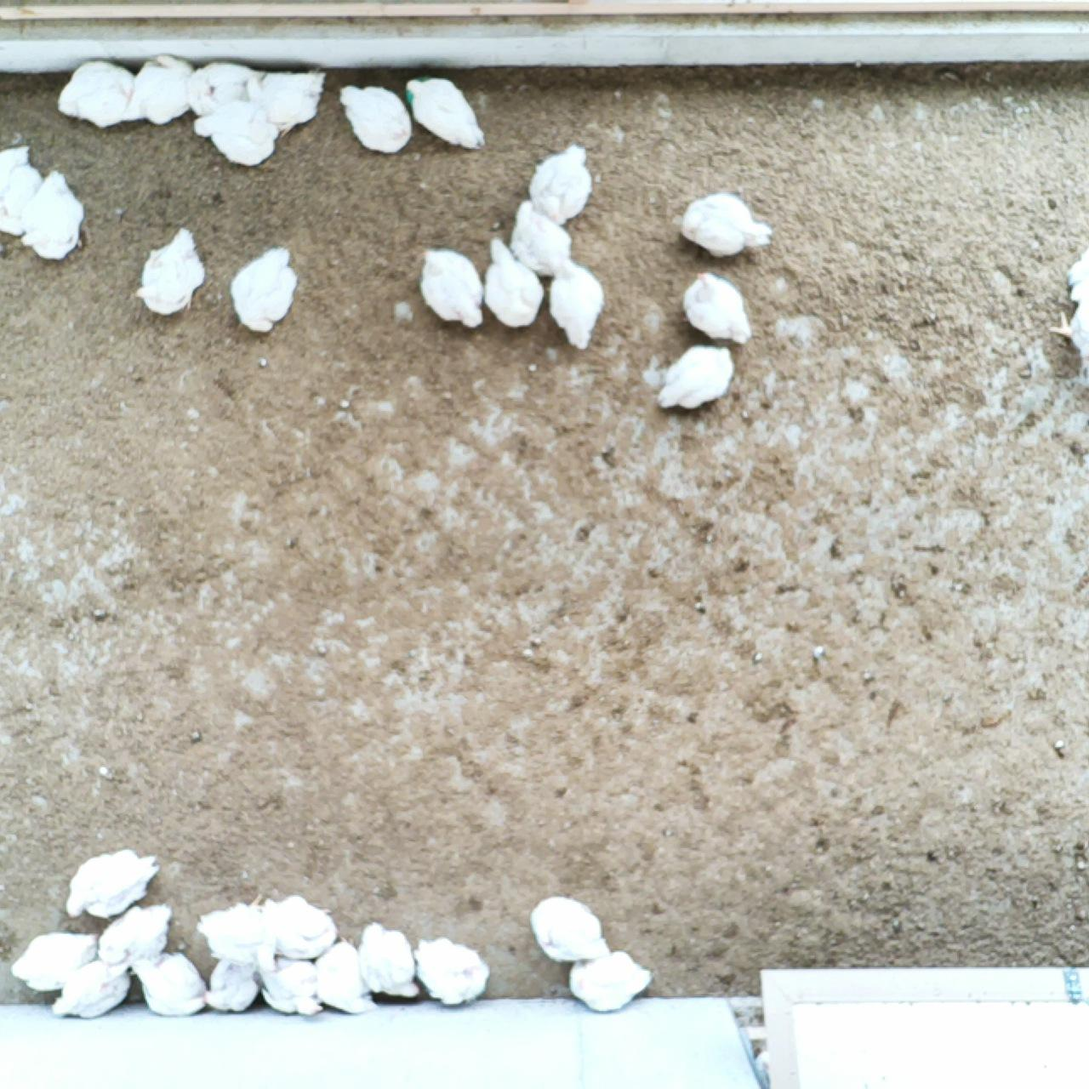chicken: (63, 846, 168, 922), (131, 221, 209, 315), (676, 189, 776, 262), (19, 164, 89, 264), (225, 245, 300, 336), (408, 929, 493, 1007), (192, 97, 284, 169), (657, 336, 739, 416), (403, 76, 487, 151), (414, 244, 485, 332), (9, 929, 103, 995), (564, 948, 656, 1015), (353, 918, 425, 1003), (678, 270, 756, 348), (478, 237, 545, 327), (254, 895, 335, 969), (338, 81, 415, 158), (545, 256, 606, 353), (54, 61, 138, 131), (120, 53, 196, 130), (531, 895, 616, 963), (524, 139, 591, 222), (92, 902, 176, 968), (200, 901, 278, 971), (126, 947, 207, 1014), (244, 70, 327, 135), (509, 196, 576, 275), (256, 951, 326, 1024), (51, 960, 133, 1022), (310, 936, 374, 1015), (0, 143, 47, 236), (183, 62, 265, 115), (200, 951, 258, 1018), (1049, 286, 1089, 367), (1059, 249, 1089, 306)
